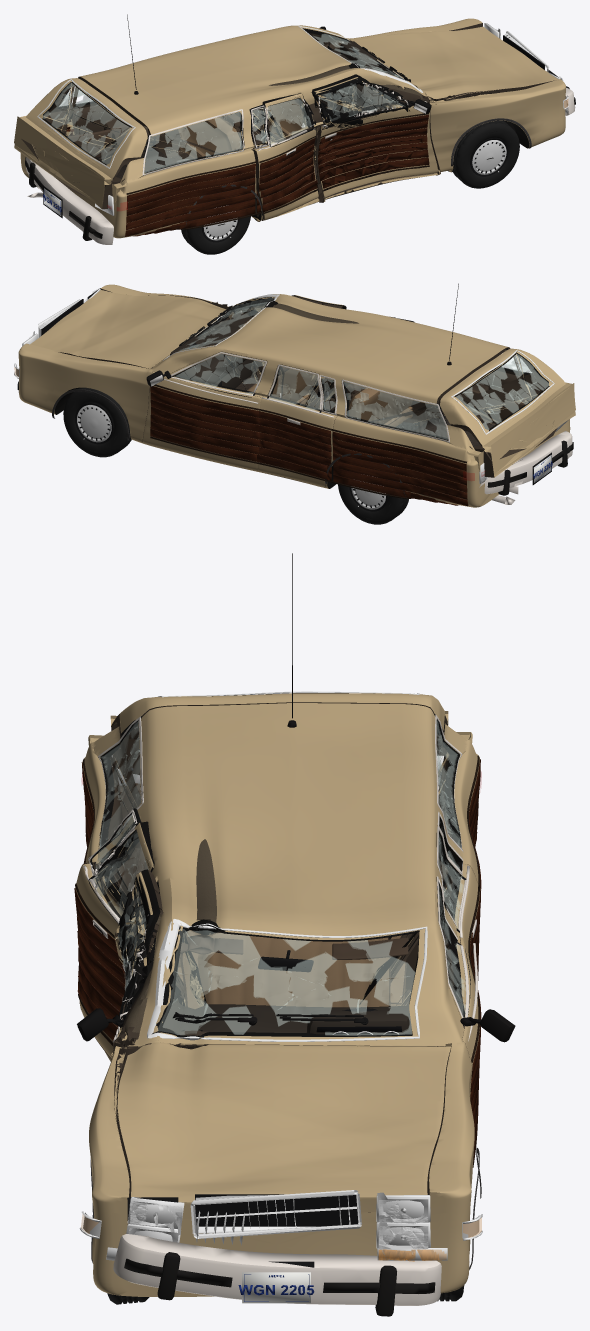
File: wagon82_side_R_d1_lod1.glb
3 renders of one model, top to bottom at view 1: azimuth 30°, elevation 25°; view 2: azimuth 150°, elevation 25°; view 3: azimuth 270°, elevation 25°, orthographic. The views are drawn at different scales.
Visible parts, largest first — view 1: Body, Hood, Trim, Tailgate, Trim_FR, Interior, Door_FR, Glass, Wheel_FR_mesh, Trim_RR, Glass_Tailgate, Bumper_R (+5 smaller); view 2: Body, Hood, Trim, Tailgate, Trim_FL, Interior, Trim_RL, Glass, Wheel_FL_mesh, Glass_Tailgate, Door_FL, Bumper_R (+7 smaller); view 3: Body, Hood, Glass, Interior, Ends, Bumper_F, Tailgate, Trim_RR, Trim, Door_FR, Door_RR, Trim_FL (+9 smaller).
Boxes of the visible parts, x1,y1,x2,y2 form: Body: (19, 18, 565, 238); Hood: (350, 26, 558, 102); Trim: (66, 14, 531, 236); Tailgate: (14, 78, 147, 209); Trim_FR: (318, 79, 431, 191); Interior: (67, 41, 390, 178); Door_FR: (312, 74, 439, 202); Glass: (61, 26, 422, 175); Wheel_FR_mesh: (452, 120, 519, 188); Trim_RR: (251, 95, 317, 213); Glass_Tailgate: (37, 79, 135, 168); Bumper_R: (25, 157, 113, 244); Body: (18, 284, 571, 507); Hood: (30, 290, 231, 368); Trim: (52, 283, 526, 506); Tailgate: (440, 348, 575, 477); Trim_FL: (146, 352, 266, 463); Interior: (170, 313, 525, 448); Trim_RL: (256, 364, 337, 481); Glass: (163, 294, 531, 439); Wheel_FL_mesh: (63, 387, 131, 457); Glass_Tailgate: (451, 350, 554, 434); Door_FL: (143, 351, 267, 471); Bumper_R: (479, 431, 573, 495); Body: (82, 703, 480, 1296); Hood: (116, 1042, 450, 1219); Glass: (98, 714, 461, 1041); Interior: (133, 783, 411, 1034); Ends: (79, 755, 482, 1303); Bumper_F: (113, 1234, 441, 1316); Tailgate: (110, 693, 448, 825); Trim_RR: (74, 809, 149, 1045); Trim: (81, 553, 481, 1269); Door_FR: (112, 869, 163, 1056); Door_RR: (75, 821, 154, 1059); Trim_FL: (437, 876, 515, 1167).
Bounding box in the file's own units: 5.01 × 2.12 × 1.95.
Materials: 35 (6 with a texture image).
